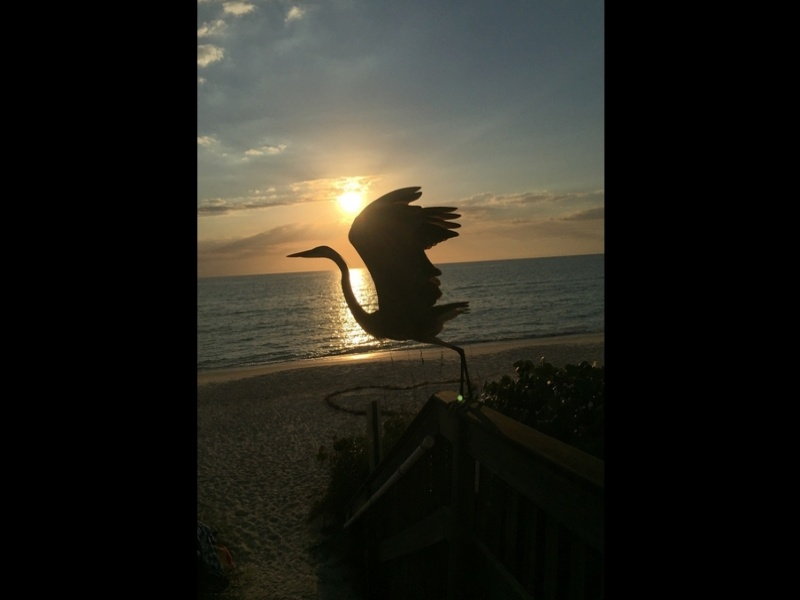heron: (283, 185, 476, 403)
